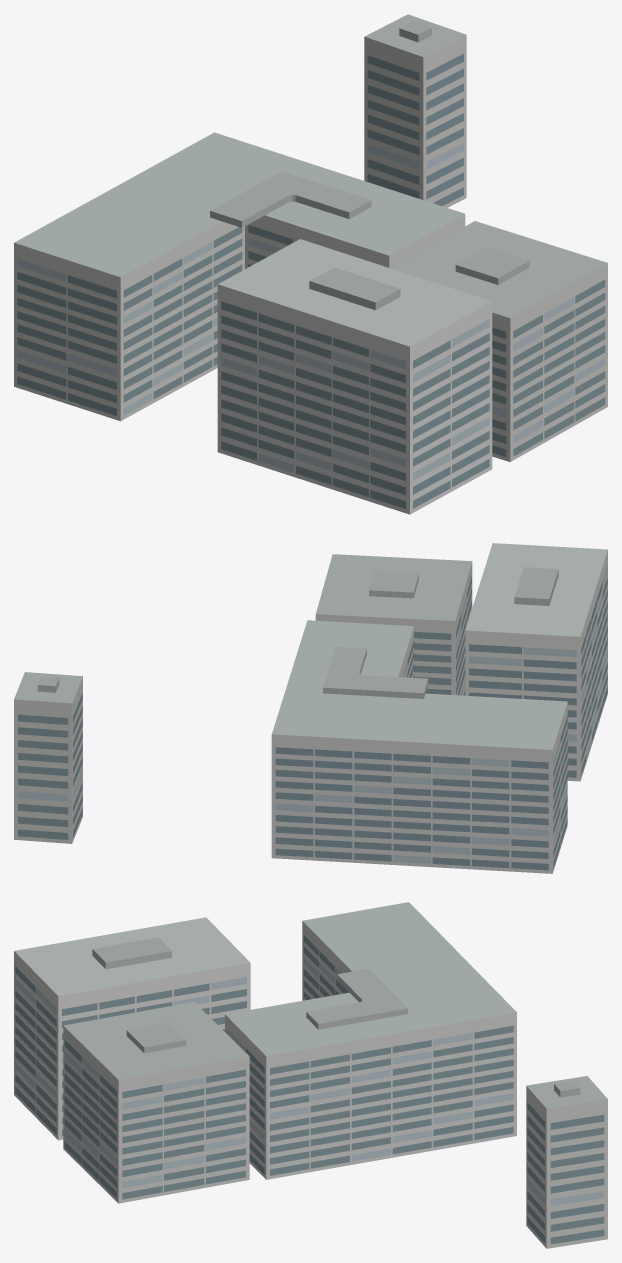
The model's file is apt-a13528001.glb.
3 views of the same model, one above another, from view 1: azimuth 30°, elevation 25°; view 2: azimuth 150°, elevation 25°; view 3: azimuth 270°, elevation 25° (orthographic). The views are drawn at different scales.
Visible parts, largest first — view 1: apt-a13528001; view 2: apt-a13528001; view 3: apt-a13528001.
Boxes of the visible parts, left/top/right/bottom form: apt-a13528001: left=14, top=14, right=607, bottom=514; apt-a13528001: left=14, top=543, right=607, bottom=873; apt-a13528001: left=14, top=902, right=607, bottom=1248.
Bounding box in the file's own units: 111 × 35 × 125.
